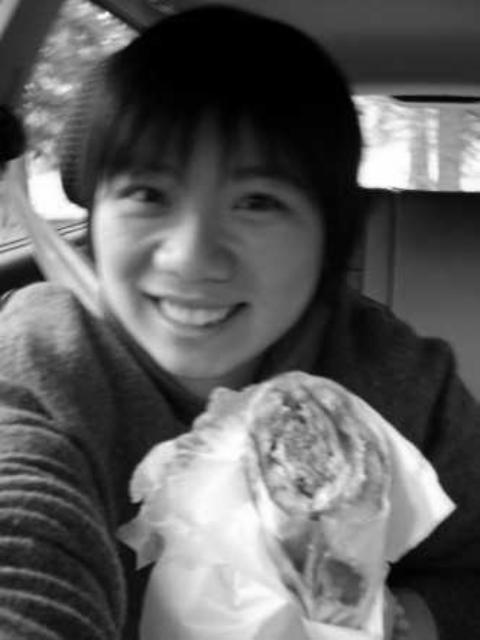SafeDriving: (98, 165, 186, 223), (219, 172, 304, 228)
Seatbelt: (0, 118, 188, 464)
